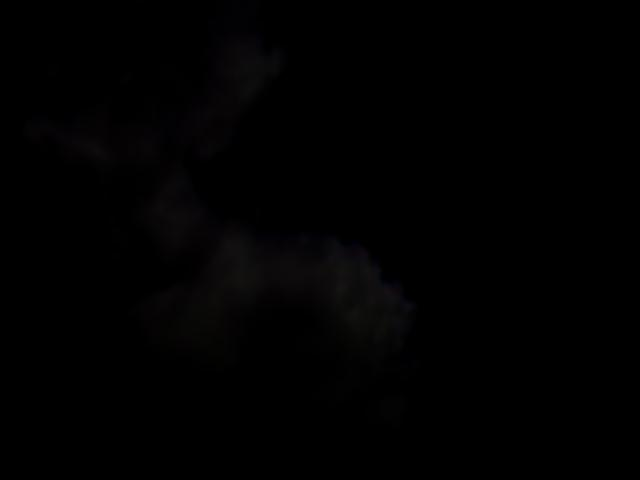iha: (435, 179, 457, 203)
